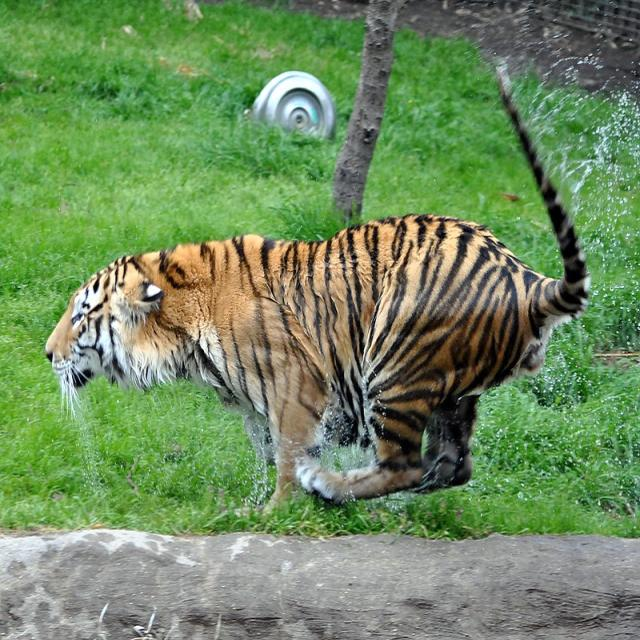Tiger: (42, 170, 592, 560)
